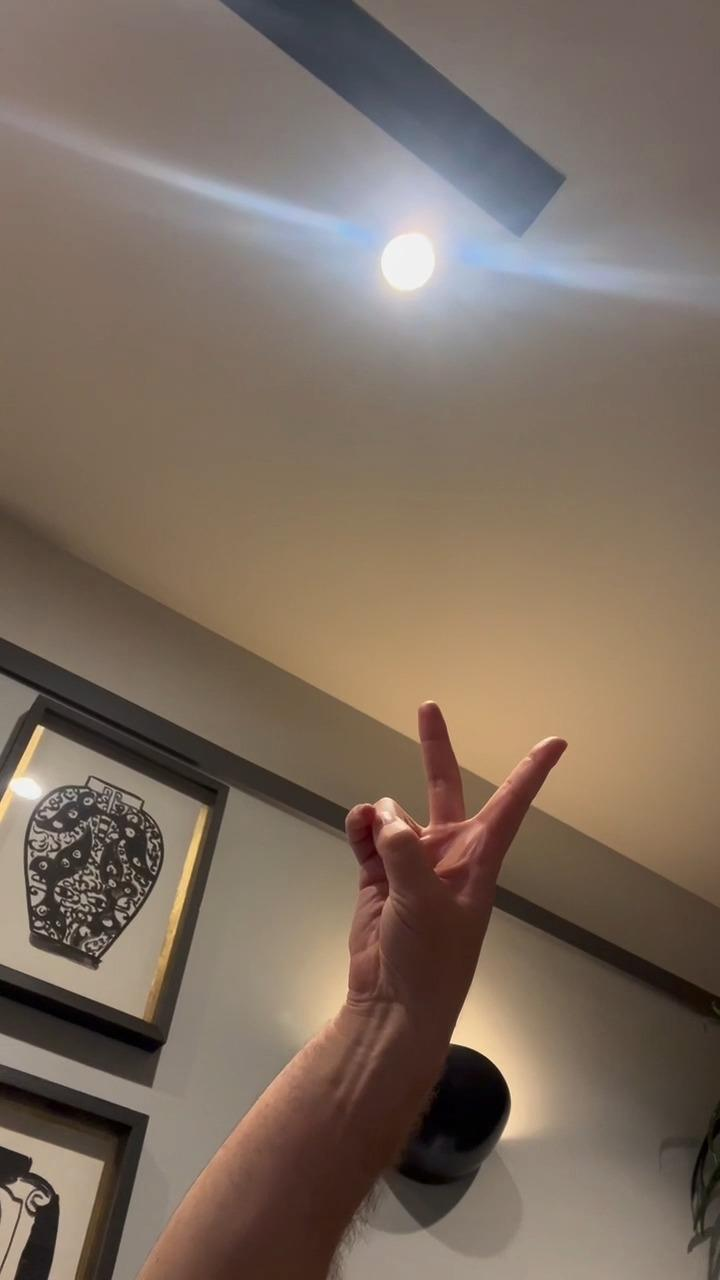Scissors: (342, 698, 568, 1023)
